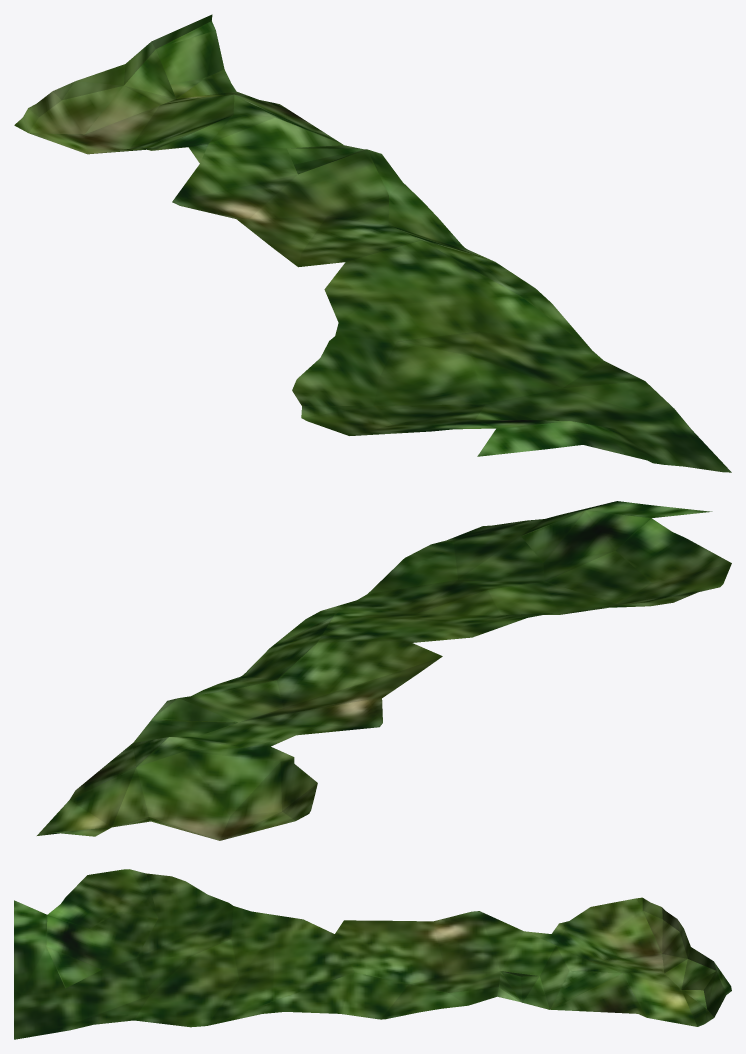
3 renders of one model, top to bottom at view 1: azimuth 30°, elevation 25°; view 2: azimuth 150°, elevation 25°; view 3: azimuth 270°, elevation 25°, orthographic. The views are drawn at different scales.
Size of the model in its own units: 0.5885 by 0.1263 by 1.53.
1 material, 1 textured.
